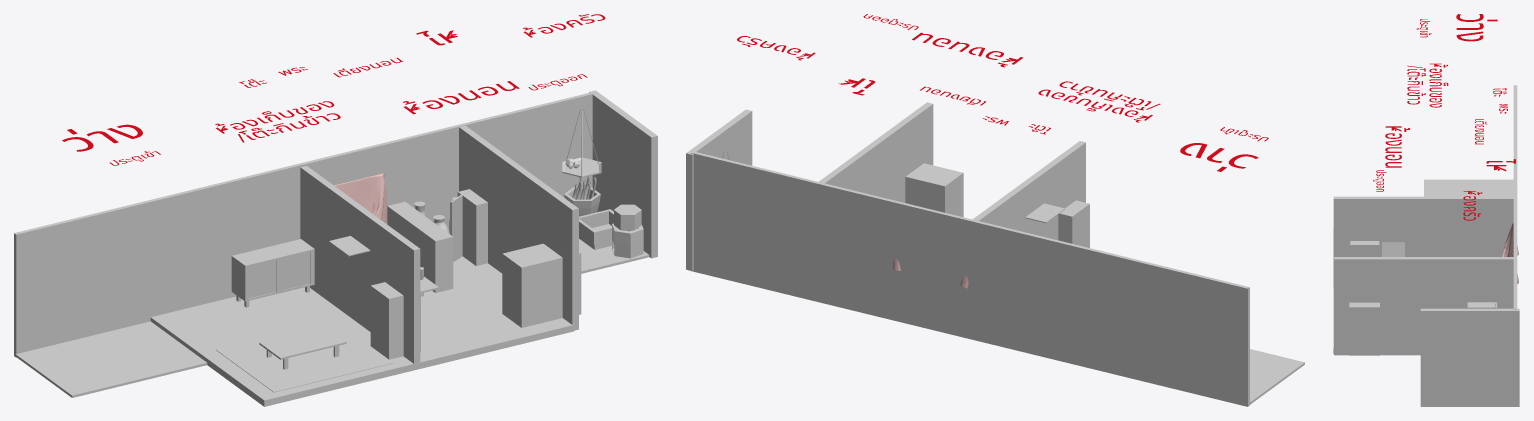
Rendered from บ้านแม่นาค-ข้างใน.fbx.
3 renders of one model, left to right at view 1: azimuth 30°, elevation 25°; view 2: azimuth 150°, elevation 25°; view 3: azimuth 270°, elevation 25°, orthographic. The views are drawn at different scales.
Visible parts, largest first — view 1: Cube.001, Cube, Cube.003, Cube.002, Cube.005, Plane, Cube.016, Cube.013, Cube.009, Cube.006, Cube.007, Cube.004 (+8 smaller); view 2: Cube.001, Cube.002, Cube.003, Cube.005, Cube.016, Cube, Cube.006, Text.001; view 3: Cube.002, Cube.003, Cube.005, Cube, Cube.016, Cube.001, Text.001, Cube.006, Text.004, Text, Cube.012, Cube.014 (+2 smaller).
Part boxes in pixels (left/top/right/bottom): Cube.001: left=14, top=92, right=595, bottom=357; Cube: left=15, top=239, right=649, bottom=406; Cube.003: left=300, top=165, right=420, bottom=363; Cube.002: left=459, top=125, right=578, bottom=330; Cube.005: left=589, top=90, right=657, bottom=258; Plane: left=216, top=320, right=393, bottom=392; Cube.016: left=502, top=243, right=581, bottom=327; Cube.013: left=231, top=239, right=314, bottom=307; Cube.009: left=387, top=201, right=453, bottom=292; Cube.006: left=370, top=282, right=420, bottom=359; Cube.007: left=457, top=189, right=487, bottom=265; Cube.004: left=259, top=326, right=346, bottom=369; Cube.001: left=691, top=151, right=1249, bottom=406; Cube.002: left=818, top=102, right=933, bottom=202; Cube.003: left=972, top=141, right=1085, bottom=240; Cube.005: left=686, top=109, right=752, bottom=270; Cube.016: left=905, top=163, right=963, bottom=217; Cube: left=1250, top=349, right=1304, bottom=404; Cube.006: left=1058, top=200, right=1089, bottom=247; Text.001: left=1038, top=81, right=1160, bottom=122; Cube.002: left=1334, top=257, right=1513, bottom=355; Cube.003: left=1333, top=196, right=1513, bottom=288; Cube.005: left=1420, top=308, right=1519, bottom=406; Cube: left=1333, top=179, right=1513, bottom=353; Cube.016: left=1349, top=302, right=1379, bottom=355; Cube.001: left=1513, top=85, right=1517, bottom=309; Text.001: left=1407, top=63, right=1448, bottom=107; Cube.006: left=1350, top=241, right=1379, bottom=256; Text.004: left=1385, top=126, right=1409, bottom=167; Text: left=1456, top=14, right=1497, bottom=41; Cube.012: left=1382, top=242, right=1404, bottom=256; Cube.014: left=1502, top=221, right=1518, bottom=283.
Bounding box in the file's own units: 1226 × 453 × 427.
